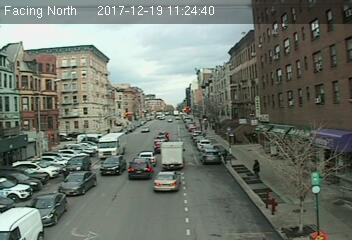car: (29, 193, 68, 226), (59, 171, 96, 197), (153, 170, 182, 192), (128, 157, 152, 181), (63, 156, 91, 176), (100, 156, 126, 175), (201, 148, 220, 162), (153, 139, 169, 154)
pedestrian: (251, 158, 263, 179)
truck: (97, 131, 127, 158), (160, 142, 185, 168)
